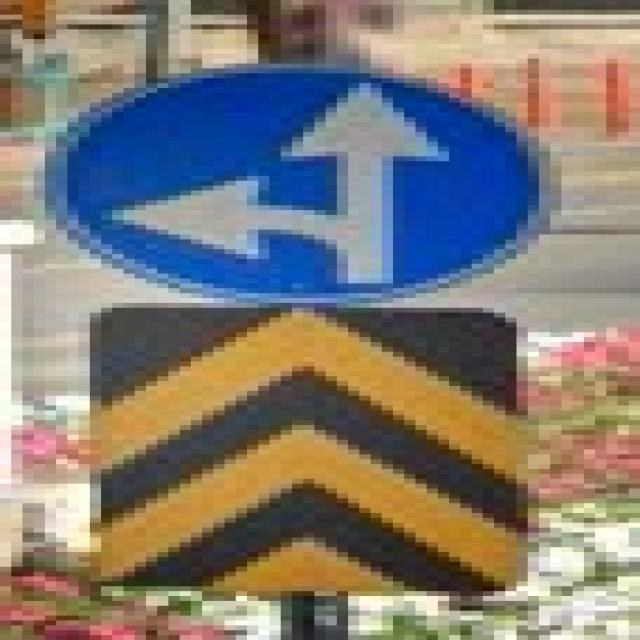Straight or Left: (46, 67, 551, 301)
